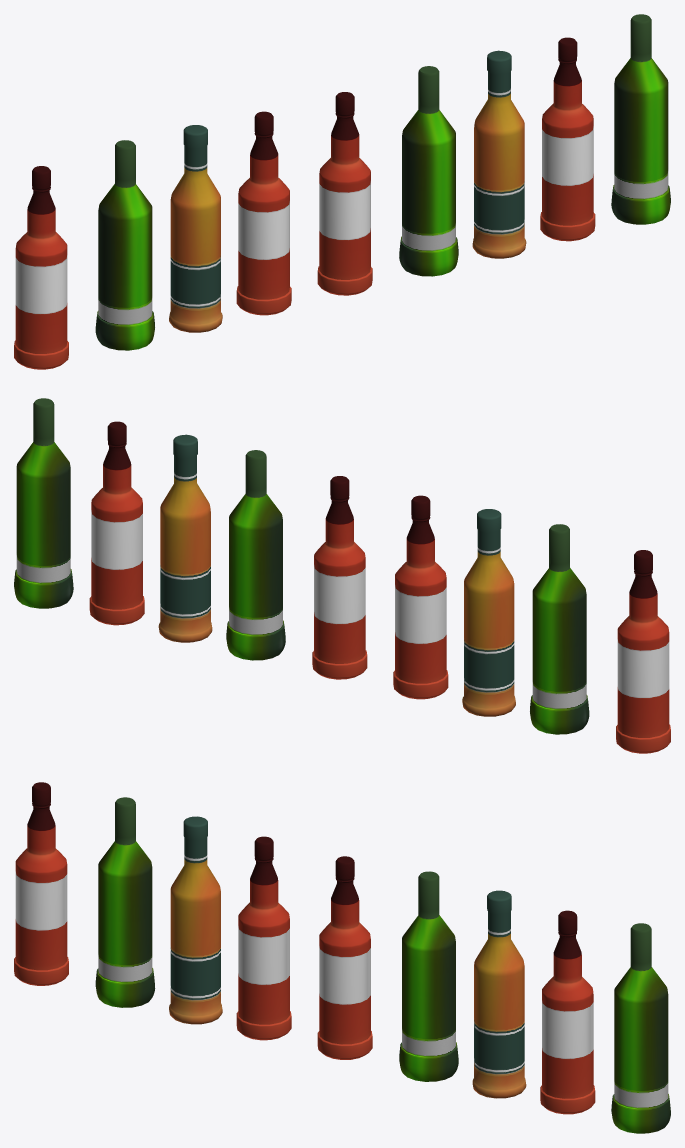
File: Bottles01_4.FBX
3 renders of one model, top to bottom at view 1: azimuth 30°, elevation 25°; view 2: azimuth 150°, elevation 25°; view 3: azimuth 330°, elevation 25°, orthographic.
Visible parts, largest first — view 1: Bottles01_4; view 2: Bottles01_4; view 3: Bottles01_4.
Part boxes in pixels (left/top/right/bottom): Bottles01_4: left=14, top=14, right=670, bottom=369; Bottles01_4: left=14, top=398, right=670, bottom=753; Bottles01_4: left=14, top=782, right=670, bottom=1133.
Bounding box in the file's own units: 107 × 30.73 × 8.57.
